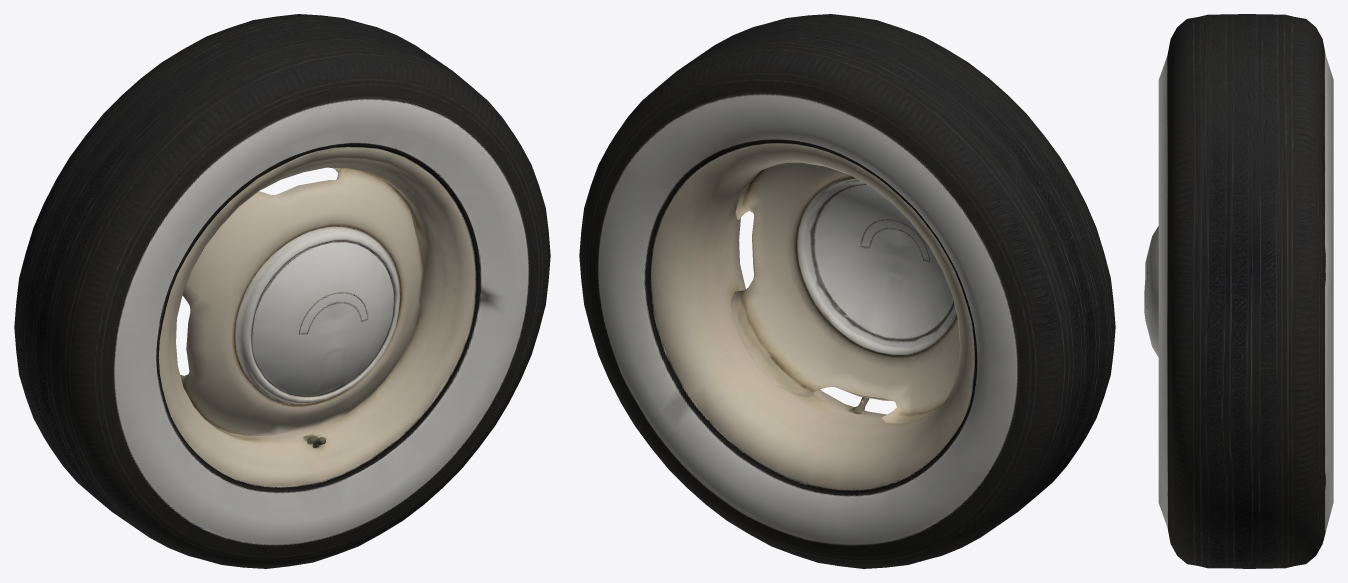
The model's file is optimized_glb.glb.
3 renders of one model, left to right at view 1: azimuth 30°, elevation 25°; view 2: azimuth 150°, elevation 25°; view 3: azimuth 270°, elevation 25°, orthographic.
Parts seen in each view (by area): view 1: wheel; view 2: wheel; view 3: wheel.
Part boxes in pixels (x1=…): wheel: x1=14, y1=14, x2=550, y2=568; wheel: x1=579, y1=14, x2=1115, y2=568; wheel: x1=1144, y1=14, x2=1333, y2=568.
Size of the model in its own units: 0.998 by 0.998 by 0.3379.
1 material, 1 textured.
